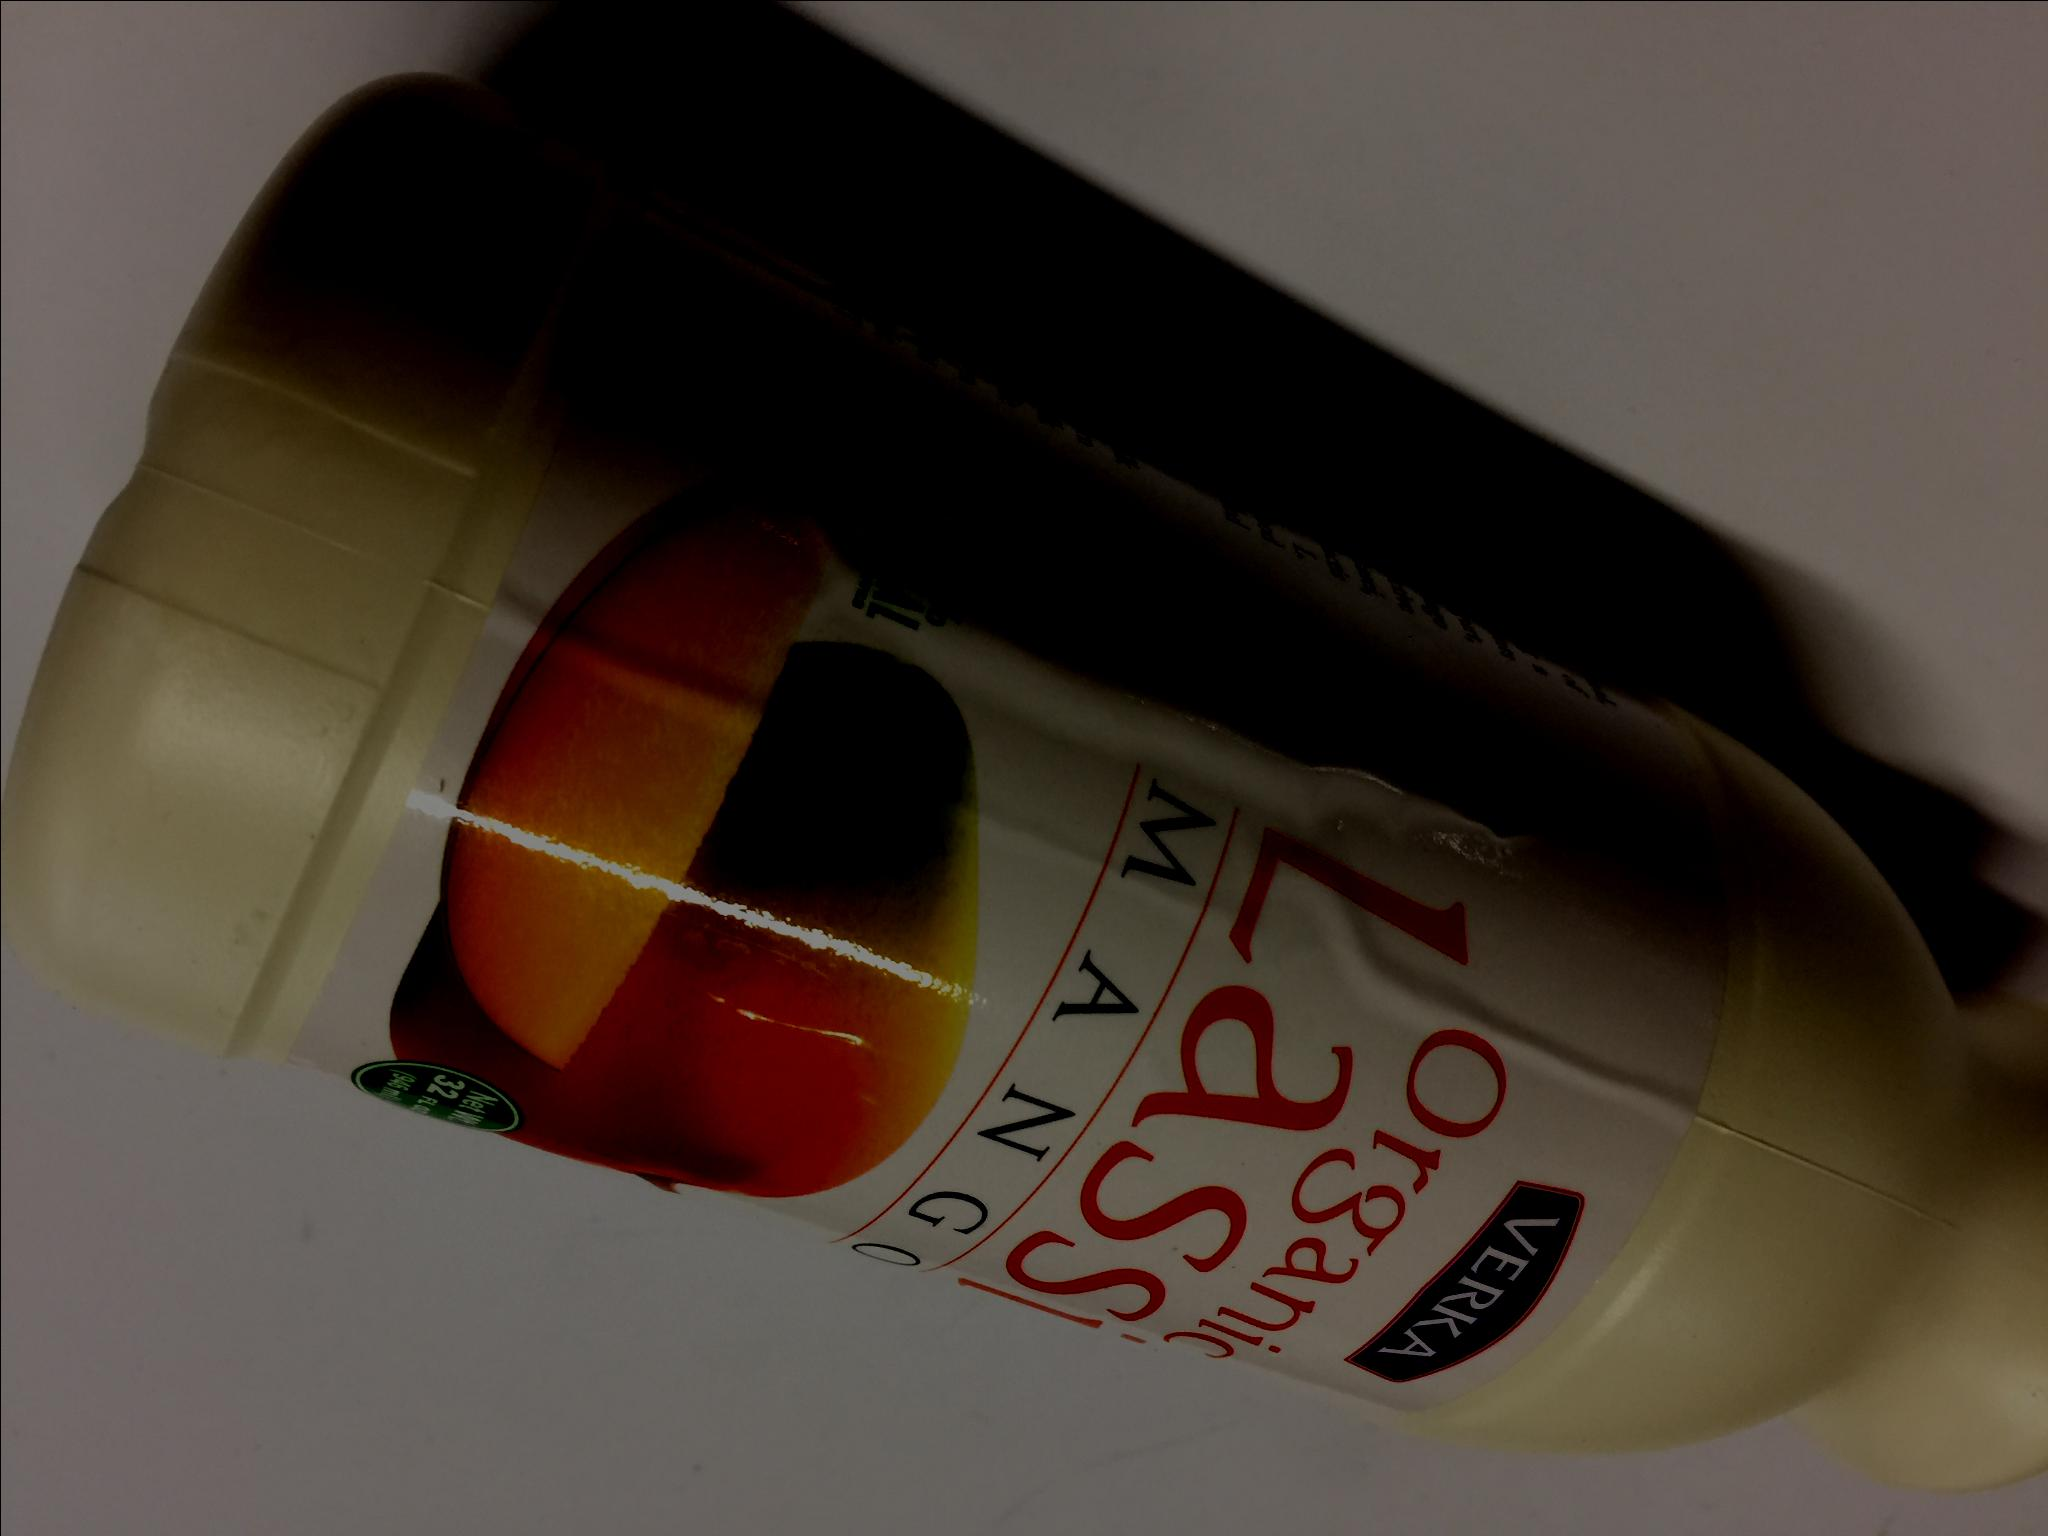Plastic: (2, 53, 2046, 1496)
